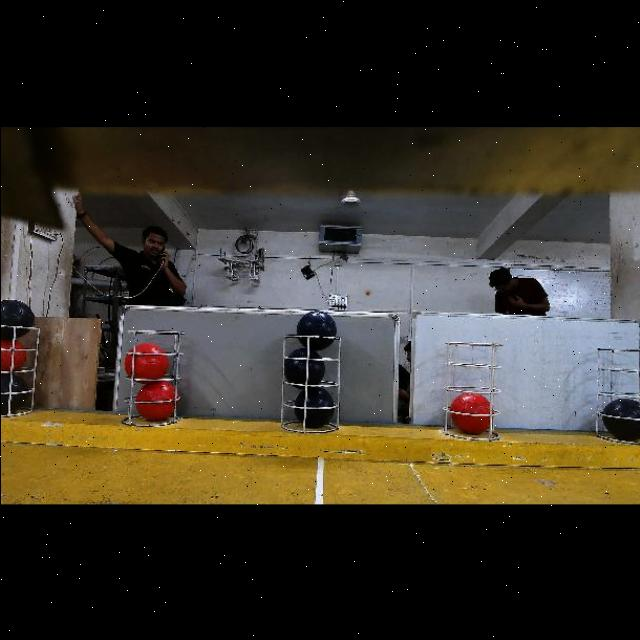P: (282, 347, 324, 388), (601, 398, 640, 441), (293, 386, 333, 426), (295, 310, 335, 350), (0, 300, 31, 340), (0, 373, 28, 412)
R: (447, 393, 490, 433), (135, 381, 175, 421), (124, 344, 167, 380), (0, 335, 24, 373)
S: (114, 320, 186, 428), (275, 334, 341, 434), (438, 339, 504, 437), (586, 345, 640, 441), (0, 322, 50, 412)
